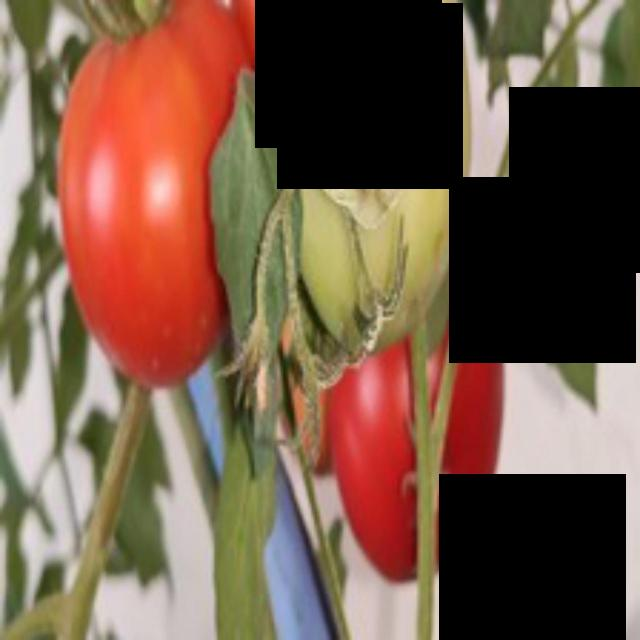tomato: (43, 22, 259, 389)
